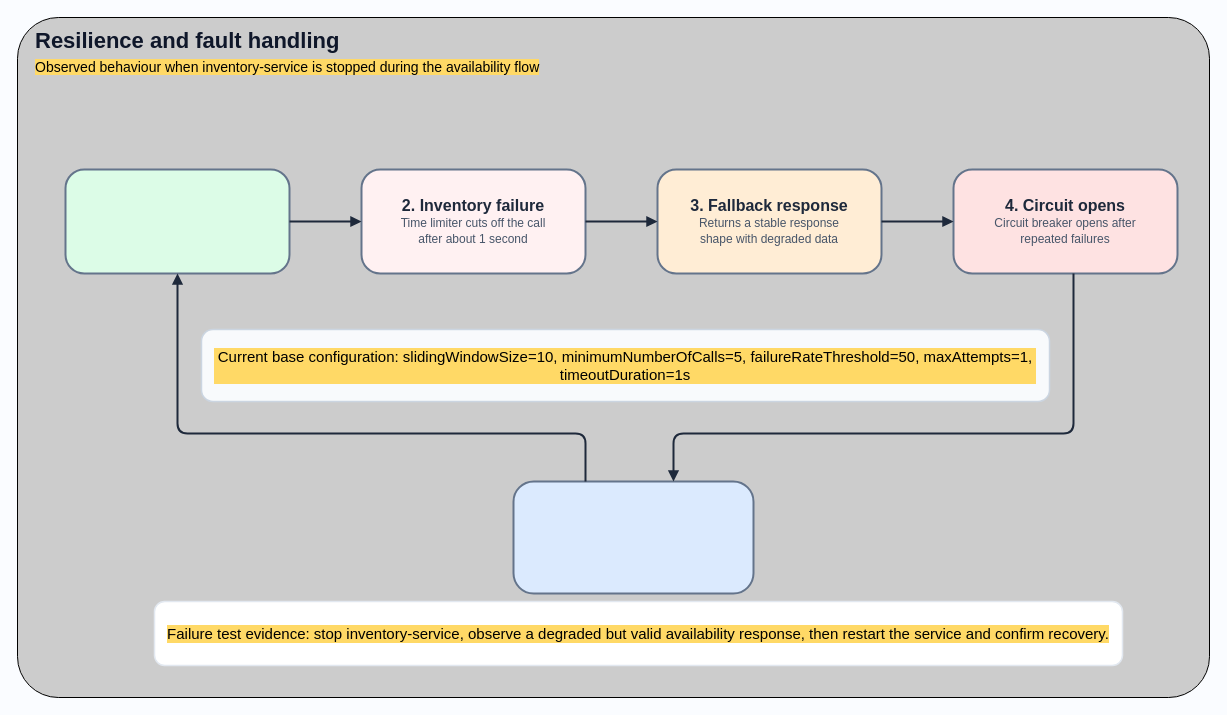
The diagram is 1227 pixels wide and 715 high, and some of its shapes have lost their labels. The shapes that lost their labels are listed below. From the top down, each one's centre as x and y in pixels, then its label:
the point at 177,221: 1. Healthy path Live inventory is returned from inventory-service
the point at 633,537: 5. Recovery After restart and wait period, traffic returns to live inventory
